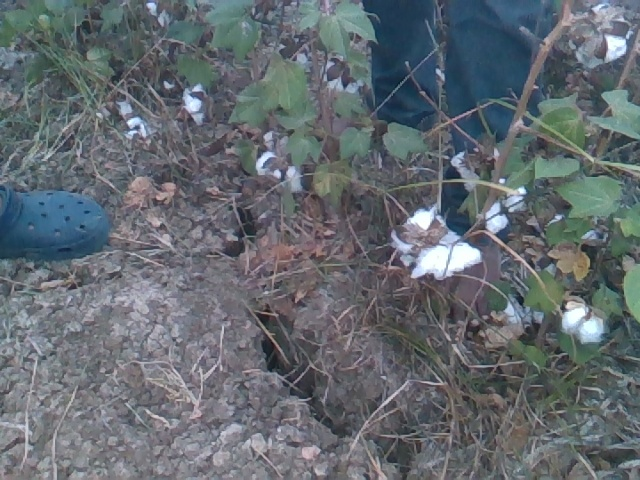cotton: (413, 234, 481, 280), (563, 302, 605, 343), (386, 231, 415, 266), (452, 153, 476, 192), (404, 206, 440, 230), (182, 86, 203, 124), (484, 204, 508, 229), (604, 35, 626, 61), (329, 76, 361, 93), (506, 189, 527, 210), (255, 153, 275, 175), (505, 299, 521, 326), (286, 166, 300, 191), (520, 311, 542, 324), (156, 11, 171, 27), (148, 2, 158, 16)
